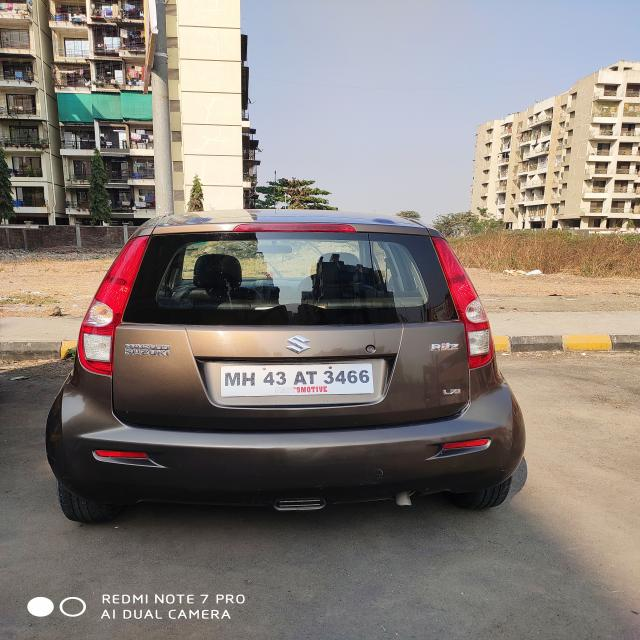Number-Plate: (224, 364, 376, 393)
